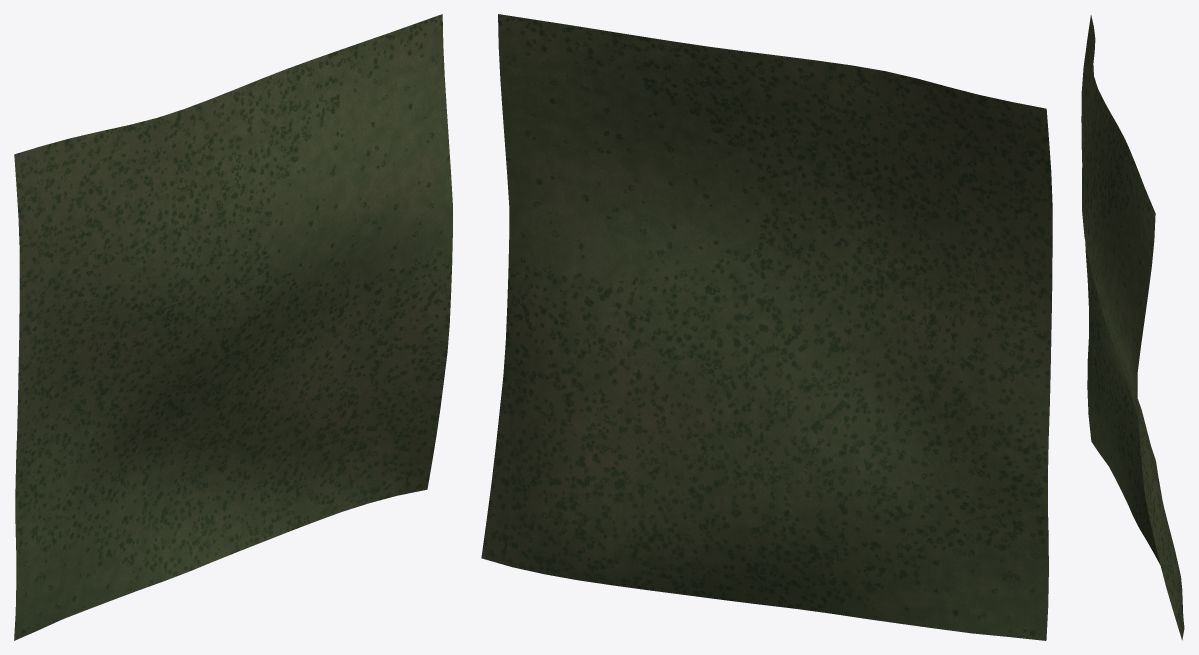
File: terrain_mid_03_01.obj
3 renders of one model, left to right at view 1: azimuth 30°, elevation 25°; view 2: azimuth 150°, elevation 25°; view 3: azimuth 270°, elevation 25°, orthographic. The views are drawn at different scales.
Visible parts, largest first — view 1: terrain_mid_03_01; view 2: terrain_mid_03_01; view 3: terrain_mid_03_01.
Part boxes in pixels (bbox=[...]): terrain_mid_03_01: bbox=[14, 14, 452, 640]; terrain_mid_03_01: bbox=[481, 14, 1052, 640]; terrain_mid_03_01: bbox=[1081, 15, 1184, 640].
Size of the model in its own units: 320 by 320 by 69.88.
Materials: 1 (1 with a texture image).
